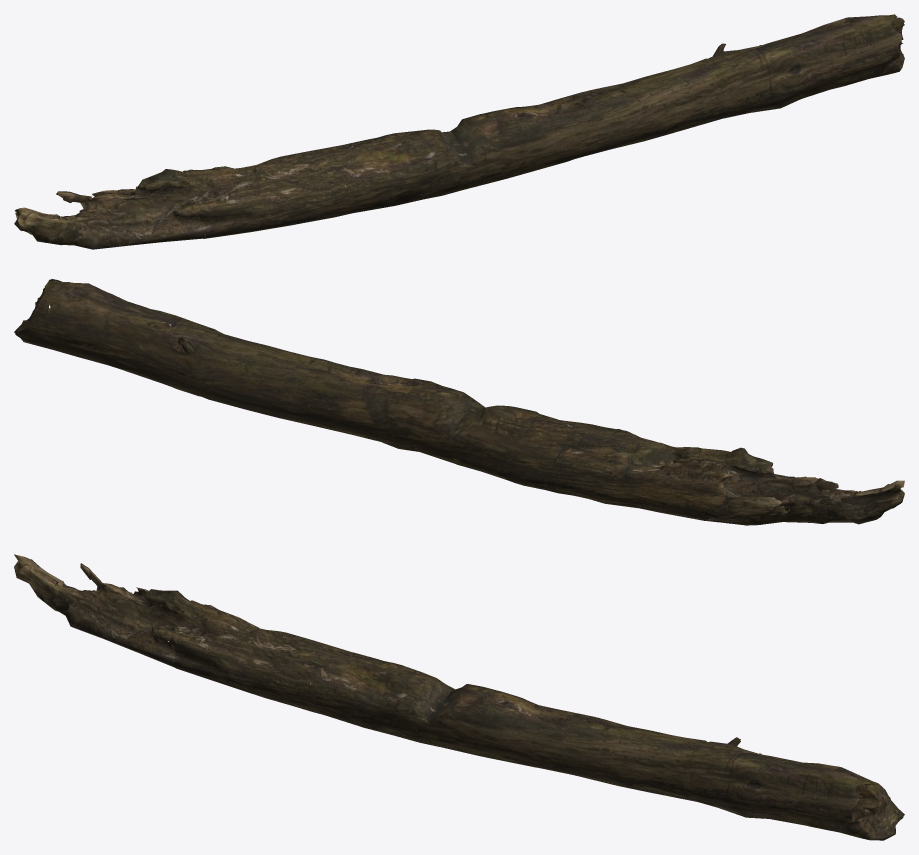
File: dead_tree_trunk.glb
3 views of the same model, one above another, from view 1: azimuth 30°, elevation 25°; view 2: azimuth 150°, elevation 25°; view 3: azimuth 330°, elevation 25° (orthographic).
Visible parts, largest first — view 1: CC0_dead_tree_trunk; view 2: CC0_dead_tree_trunk; view 3: CC0_dead_tree_trunk.
Part boxes in pixels (bbox=[...]): CC0_dead_tree_trunk: bbox=[14, 14, 904, 249]; CC0_dead_tree_trunk: bbox=[14, 279, 904, 525]; CC0_dead_tree_trunk: bbox=[14, 554, 904, 840].
Bounding box in the file's own units: 2.59 × 0.2463 × 0.2334.
1 material, 1 textured.
